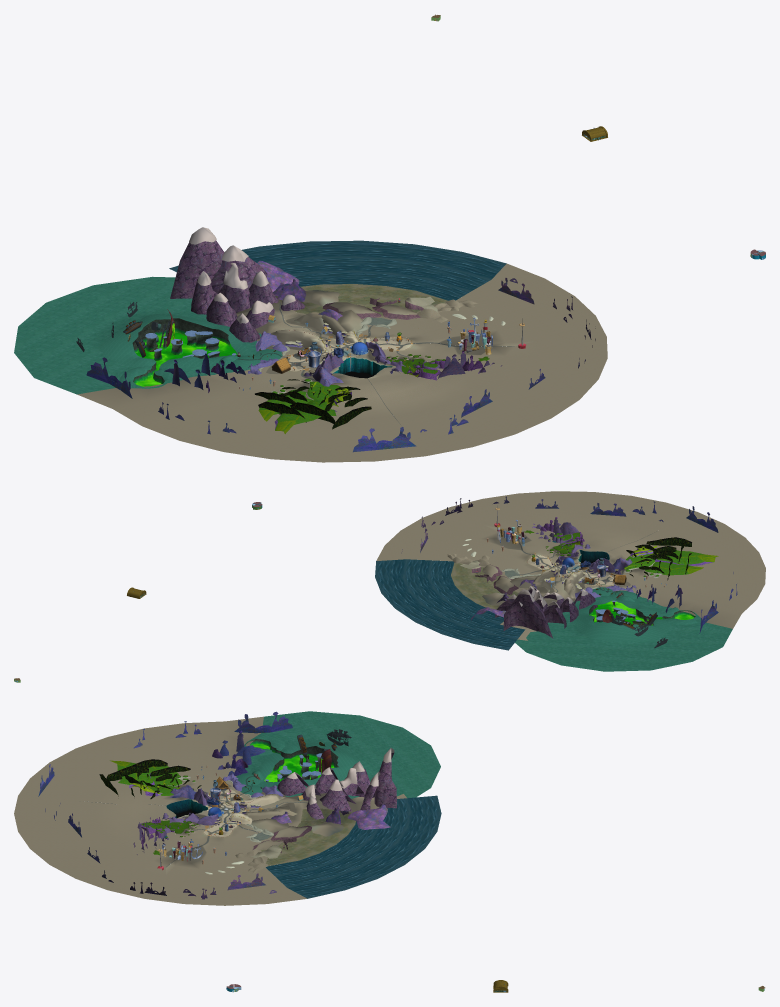
The model's file is town.glb.
3 views of the same model, one above another, from view 1: azimuth 30°, elevation 25°; view 2: azimuth 150°, elevation 25°; view 3: azimuth 270°, elevation 25° (orthographic). The views are drawn at different scales.
Visible parts, largest first — view 1: ground_day3_mat_ground_day3_0, dutch_ground_mat_dutch_ground_0, lagoon_water_mat_lagoon_water_0, rock_sand_mtn_purple_mat_rock_sand_mtn_purple_0, light_purple_rock_mat_rock_purple_0, purple_rock1_mat_rock_purple_ver10_0, sand_jfflds_wet_mat_sand_jfflds_wet_0, kf_lodtextures_fringes_mat_kf_lodtextures_fringes_0, sand_mountain_top_mat_sm_peak_0, main_sand_mat_ground_day_0, mesh_grass_mat_grass_0, mesh_gy_lodtextures_mat_gy_lodtextures_0 (+3 smaller); view 2: ground_day3_mat_ground_day3_0, dutch_ground_mat_dutch_ground_0, lagoon_water_mat_lagoon_water_0, rock_sand_mtn_purple_mat_rock_sand_mtn_purple_0, light_purple_rock_mat_rock_purple_0, purple_rock1_mat_rock_purple_ver10_0, sand_jfflds_wet_mat_sand_jfflds_wet_0, mesh_grass_mat_grass_0, kf_lodtextures_fringes_mat_kf_lodtextures_fringes_0, main_sand_mat_ground_day_0, mesh_gy_lodtextures_mat_gy_lodtextures_0, gy_lava_green_mat_gy_lava_green_0 (+3 smaller); view 3: ground_day3_mat_ground_day3_0, dutch_ground_mat_dutch_ground_0, lagoon_water_mat_lagoon_water_0, rock_sand_mtn_purple_mat_rock_sand_mtn_purple_0, light_purple_rock_mat_rock_purple_0, sand_jfflds_wet_mat_sand_jfflds_wet_0, purple_rock1_mat_rock_purple_ver10_0, kf_lodtextures_fringes_mat_kf_lodtextures_fringes_0, main_sand_mat_ground_day_0, sand_mountain_top_mat_sm_peak_0, mesh_gy_lodtextures_mat_gy_lodtextures_0, mesh_grass_mat_grass_0 (+3 smaller).
Boxes of the visible parts, x1=… form: ground_day3_mat_ground_day3_0: x1=77, y1=263, x2=607, y2=462; dutch_ground_mat_dutch_ground_0: x1=14, y1=276, x2=282, y2=394; lagoon_water_mat_lagoon_water_0: x1=169, y1=240, x2=506, y2=300; rock_sand_mtn_purple_mat_rock_sand_mtn_purple_0: x1=170, y1=240, x2=305, y2=342; light_purple_rock_mat_rock_purple_0: x1=86, y1=260, x2=595, y2=452; purple_rock1_mat_rock_purple_ver10_0: x1=164, y1=333, x2=489, y2=389; sand_jfflds_wet_mat_sand_jfflds_wet_0: x1=275, y1=284, x2=447, y2=360; kf_lodtextures_fringes_mat_kf_lodtextures_fringes_0: x1=255, y1=379, x2=371, y2=429; sand_mountain_top_mat_sm_peak_0: x1=189, y1=227, x2=295, y2=323; main_sand_mat_ground_day_0: x1=271, y1=329, x2=412, y2=371; mesh_grass_mat_grass_0: x1=259, y1=379, x2=340, y2=424; mesh_gy_lodtextures_mat_gy_lodtextures_0: x1=76, y1=302, x2=261, y2=357; ground_day3_mat_ground_day3_0: x1=376, y1=491, x2=765, y2=640; dutch_ground_mat_dutch_ground_0: x1=515, y1=587, x2=732, y2=671; lagoon_water_mat_lagoon_water_0: x1=375, y1=540, x2=556, y2=650; rock_sand_mtn_purple_mat_rock_sand_mtn_purple_0: x1=495, y1=588, x2=597, y2=638; light_purple_rock_mat_rock_purple_0: x1=401, y1=496, x2=737, y2=633; purple_rock1_mat_rock_purple_ver10_0: x1=536, y1=519, x2=681, y2=612; sand_jfflds_wet_mat_sand_jfflds_wet_0: x1=451, y1=550, x2=559, y2=609; mesh_grass_mat_grass_0: x1=624, y1=550, x2=704, y2=576; kf_lodtextures_fringes_mat_kf_lodtextures_fringes_0: x1=626, y1=537, x2=691, y2=580; main_sand_mat_ground_day_0: x1=527, y1=555, x2=615, y2=598; mesh_gy_lodtextures_mat_gy_lodtextures_0: x1=602, y1=590, x2=667, y2=648; gy_lava_green_mat_gy_lava_green_0: x1=590, y1=600, x2=693, y2=625; ground_day3_mat_ground_day3_0: x1=14, y1=716, x2=406, y2=905; dutch_ground_mat_dutch_ground_0: x1=236, y1=711, x2=440, y2=798; lagoon_water_mat_lagoon_water_0: x1=164, y1=795, x2=441, y2=898; rock_sand_mtn_purple_mat_rock_sand_mtn_purple_0: x1=277, y1=753, x2=396, y2=819; light_purple_rock_mat_rock_purple_0: x1=38, y1=711, x2=390, y2=899; sand_jfflds_wet_mat_sand_jfflds_wet_0: x1=184, y1=808, x2=355, y2=866; purple_rock1_mat_rock_purple_ver10_0: x1=138, y1=733, x2=265, y2=850; kf_lodtextures_fringes_mat_kf_lodtextures_fringes_0: x1=99, y1=759, x2=201, y2=799; main_sand_mat_ground_day_0: x1=204, y1=789, x2=285, y2=837; sand_mountain_top_mat_sm_peak_0: x1=287, y1=748, x2=394, y2=804; mesh_gy_lodtextures_mat_gy_lodtextures_0: x1=251, y1=729, x2=351, y2=785; mesh_grass_mat_grass_0: x1=117, y1=762, x2=194, y2=795.
Size of the model in its own units: 974 by 108 by 1130.
Materials: 202 (176 with a texture image).
